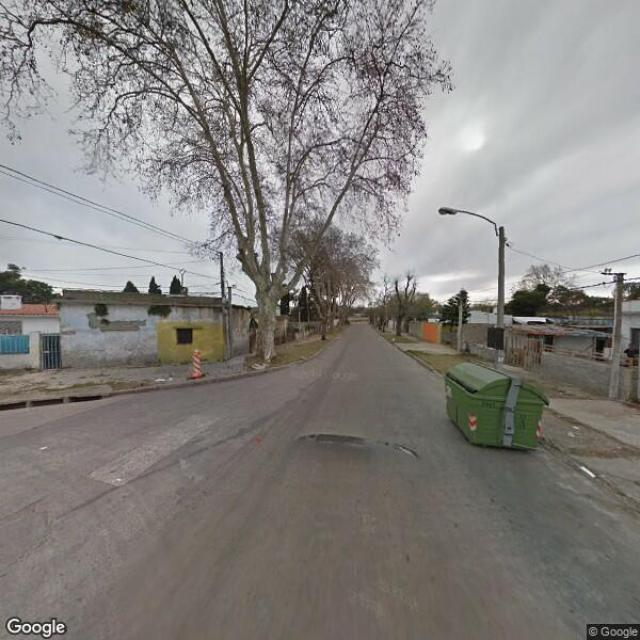garbage container: (436, 356, 557, 468)
